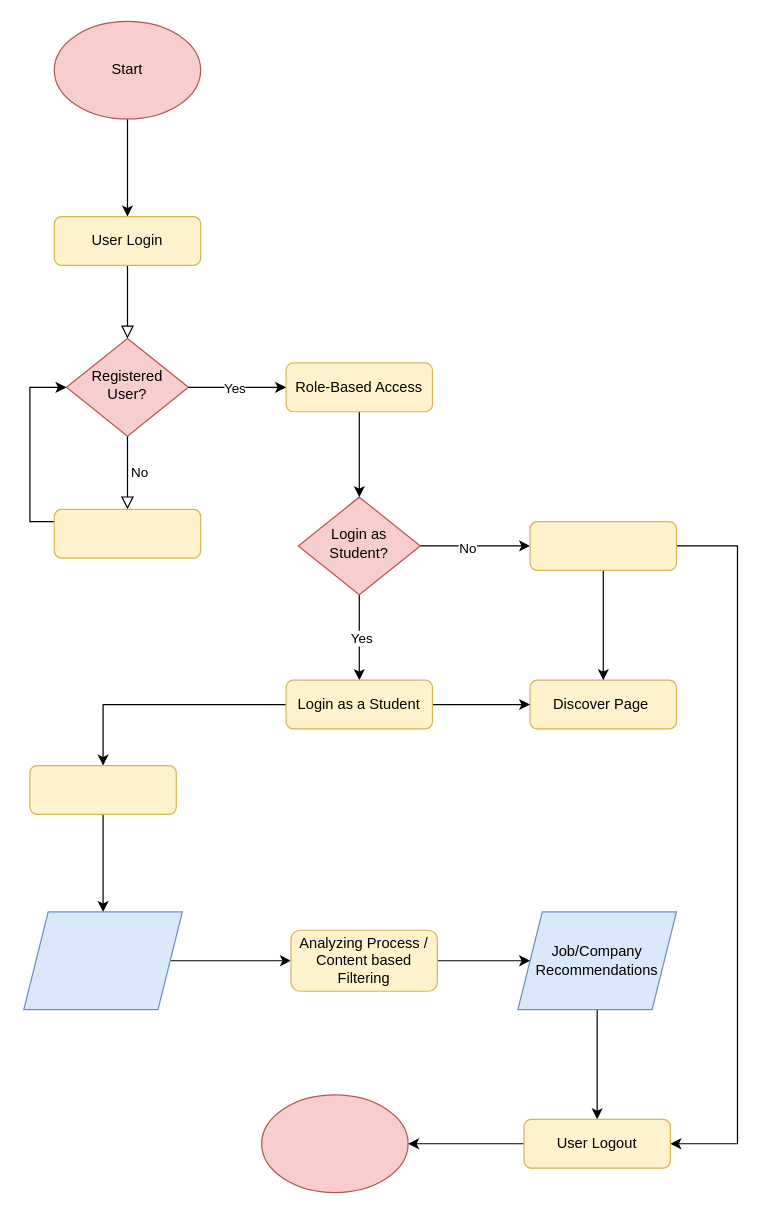
The diagram is 769 pixels wide and 1214 high, and some of its shapes have lost their labels. Here are the shapes that lost their labels. From the top down, the box of each, then its label:
(53, 508, 201, 558): Register User
(529, 520, 676, 570): Login as a Professional
(29, 764, 176, 814): Ai Interviewer Chatbot Simulation
(23, 911, 182, 1010): responses from students in the AI interview
(260, 1094, 408, 1193): End
